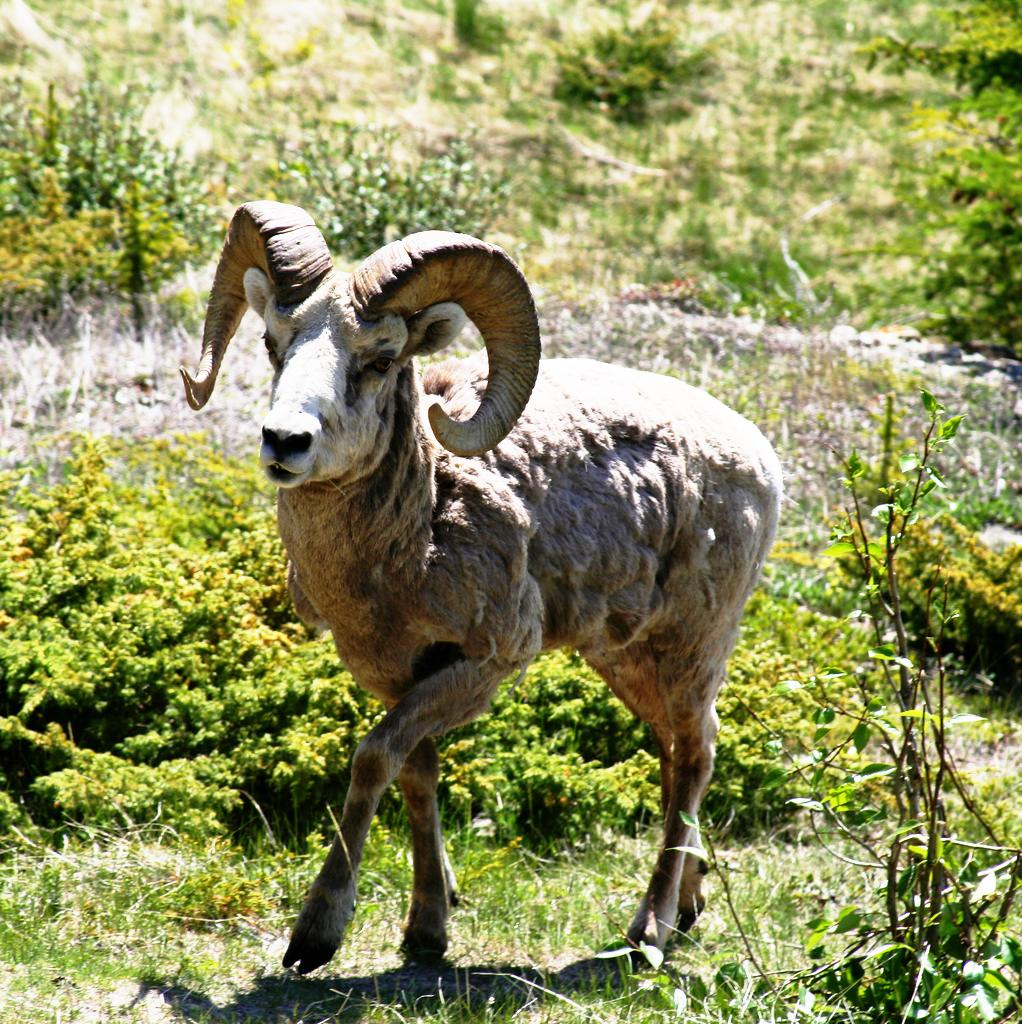Sheep: (160, 188, 790, 985)
